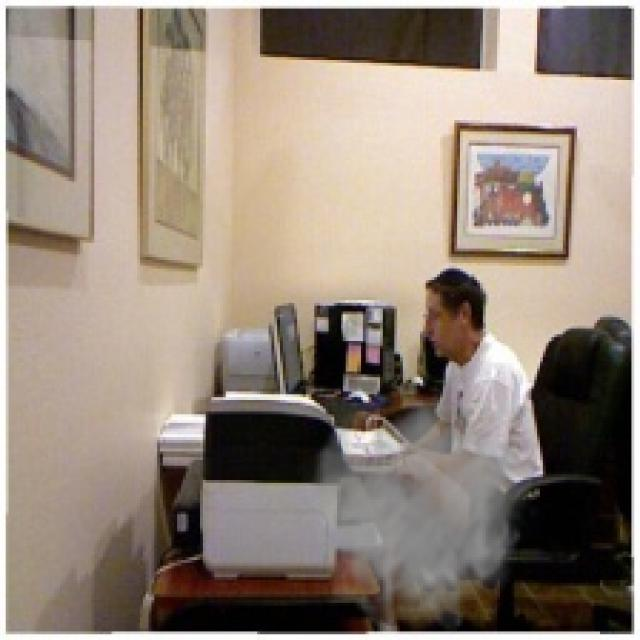smoke: (297, 389, 532, 637)
